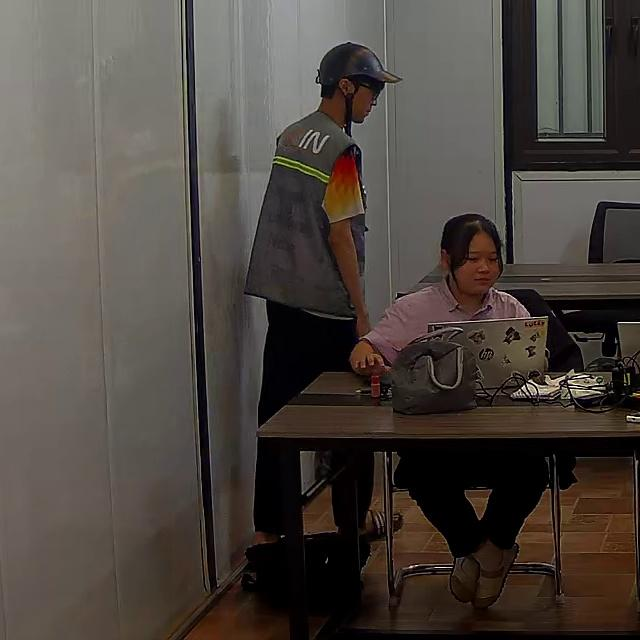helmet: (316, 41, 403, 90)
no_helmet: (439, 213, 505, 288)
none: (359, 277, 528, 370)
vest: (242, 108, 369, 315)
